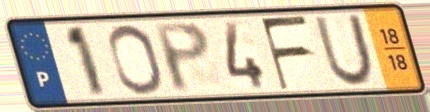1: (64, 24, 109, 99)
4: (224, 19, 269, 92)
F: (258, 13, 314, 93)
O: (105, 22, 167, 97)
P: (150, 19, 213, 96)
U: (311, 12, 377, 89)
